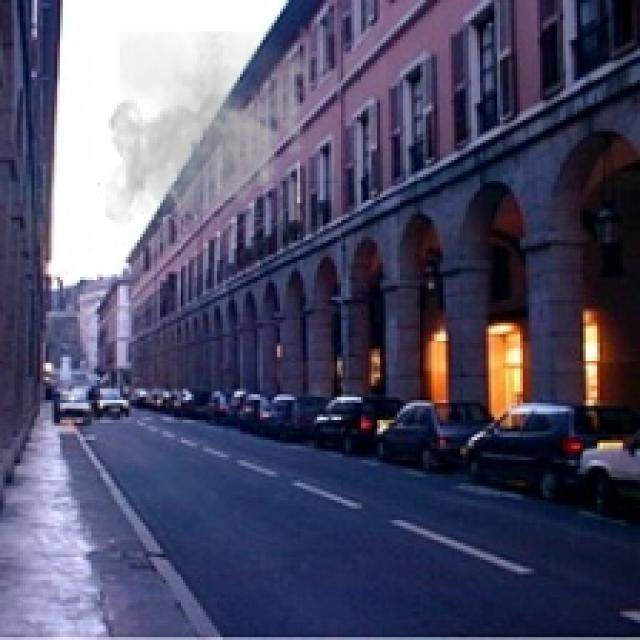Smoke: (105, 32, 318, 232)
